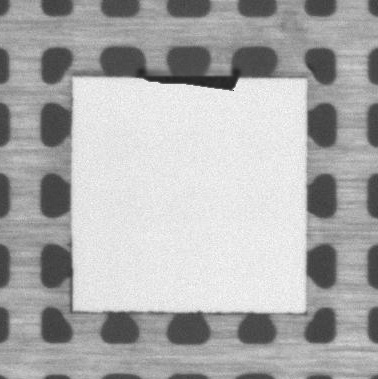DIE_BROKEN: (138, 70, 242, 90)
